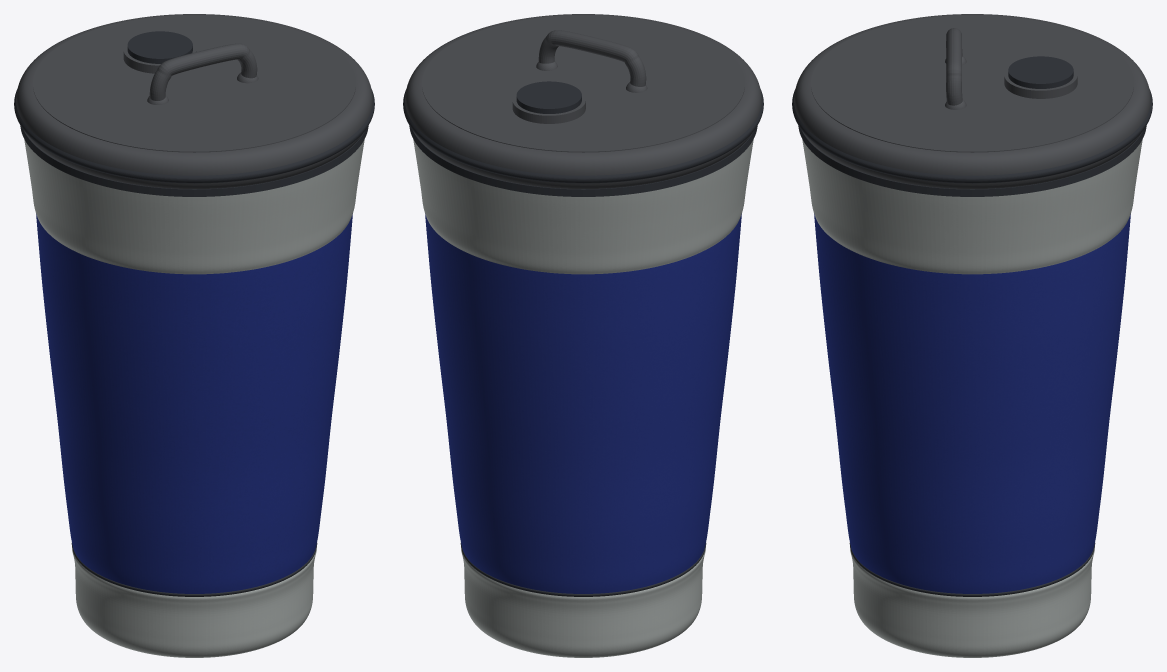
File: garrafa-termica-azul.glb
3 views of the same model, side by side, from view 1: azimuth 30°, elevation 25°; view 2: azimuth 150°, elevation 25°; view 3: azimuth 270°, elevation 25° (orthographic).
Parts seen in each view (by area): view 1: 01 - Corpo azul cônico, 04a - Plano superior da tampa, 03 - Faixa superior larga em aço inox escovado, 02 - Base inferior em aço inox escovado, 04 - Tampa preta com borda arredondada, 04c - Filete externo da tampa, 04b - Vedação inferior da tampa, 05 - Alça elevada da tampa, 06a - Tampa do ressalto traseiro, 02a - Linha fina de união da base; view 2: 01 - Corpo azul cônico, 04a - Plano superior da tampa, 03 - Faixa superior larga em aço inox escovado, 02 - Base inferior em aço inox escovado, 04 - Tampa preta com borda arredondada, 04c - Filete externo da tampa, 04b - Vedação inferior da tampa, 05 - Alça elevada da tampa, 06a - Tampa do ressalto traseiro, 02a - Linha fina de união da base, 06 - Base do ressalto traseiro; view 3: 01 - Corpo azul cônico, 04a - Plano superior da tampa, 03 - Faixa superior larga em aço inox escovado, 02 - Base inferior em aço inox escovado, 04 - Tampa preta com borda arredondada, 04c - Filete externo da tampa, 04b - Vedação inferior da tampa, 06a - Tampa do ressalto traseiro, 05 - Alça elevada da tampa, 02a - Linha fina de união da base, 06 - Base do ressalto traseiro.
Part boxes in pixels (left/top/right/bottom): 01 - Corpo azul cônico: left=36, top=214, right=352, bottom=593; 04a - Plano superior da tampa: left=33, top=15, right=355, bottom=152; 03 - Faixa superior larga em aço inox escovado: left=24, top=139, right=364, bottom=274; 02 - Base inferior em aço inox escovado: left=72, top=549, right=316, bottom=657; 04 - Tampa preta com borda arredondada: left=16, top=14, right=372, bottom=188; 04c - Filete externo da tampa: left=14, top=89, right=374, bottom=183; 04b - Vedação inferior da tampa: left=20, top=125, right=368, bottom=196; 05 - Alça elevada da tampa: left=149, top=43, right=257, bottom=100; 06a - Tampa do ressalto traseiro: left=127, top=31, right=192, bottom=63; 02a - Linha fina de união da base: left=71, top=543, right=317, bottom=596; 01 - Corpo azul cônico: left=425, top=214, right=741, bottom=593; 04a - Plano superior da tampa: left=422, top=15, right=744, bottom=152; 03 - Faixa superior larga em aço inox escovado: left=413, top=139, right=753, bottom=274; 02 - Base inferior em aço inox escovado: left=461, top=549, right=705, bottom=657; 04 - Tampa preta com borda arredondada: left=405, top=14, right=761, bottom=188; 04c - Filete externo da tampa: left=403, top=89, right=763, bottom=183; 04b - Vedação inferior da tampa: left=409, top=125, right=757, bottom=196; 05 - Alça elevada da tampa: left=538, top=30, right=646, bottom=86; 06a - Tampa do ressalto traseiro: left=516, top=81, right=581, bottom=113; 02a - Linha fina de união da base: left=460, top=543, right=706, bottom=596; 06 - Base do ressalto traseiro: left=512, top=93, right=585, bottom=123; 01 - Corpo azul cônico: left=814, top=214, right=1130, bottom=593; 04a - Plano superior da tampa: left=811, top=15, right=1133, bottom=152; 03 - Faixa superior larga em aço inox escovado: left=802, top=139, right=1142, bottom=274; 02 - Base inferior em aço inox escovado: left=850, top=549, right=1094, bottom=657; 04 - Tampa preta com borda arredondada: left=794, top=14, right=1150, bottom=188; 04c - Filete externo da tampa: left=792, top=89, right=1152, bottom=183; 04b - Vedação inferior da tampa: left=798, top=125, right=1146, bottom=196; 06a - Tampa do ressalto traseiro: left=1008, top=56, right=1073, bottom=88; 05 - Alça elevada da tampa: left=946, top=28, right=962, bottom=105; 02a - Linha fina de união da base: left=849, top=543, right=1095, bottom=596; 06 - Base do ressalto traseiro: left=1004, top=68, right=1077, bottom=98.
Bounding box in the file's own units: 2.27 × 3.93 × 2.27.
4 materials, 2 textured.
